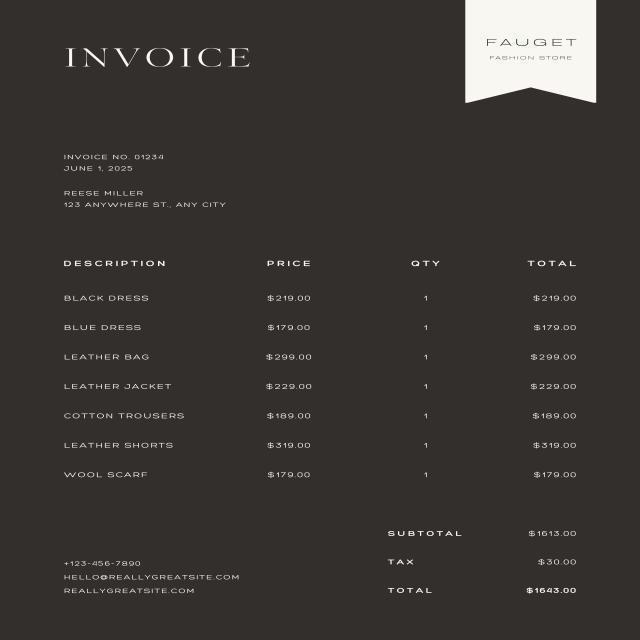paragraph: (375, 522, 590, 611), (54, 146, 247, 217), (49, 541, 244, 611), (55, 39, 264, 73), (482, 29, 596, 79)
table: (47, 246, 603, 492)
